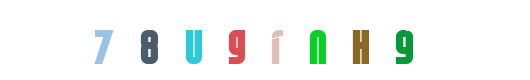7: (110, 0, 190, 80)
8: (121, 0, 201, 80)
9: (321, 0, 401, 80)
G: (197, 0, 277, 80)
H: (320, 0, 400, 80)
N: (239, 0, 319, 80)
R: (225, 0, 305, 80)
U: (154, 0, 234, 80)
